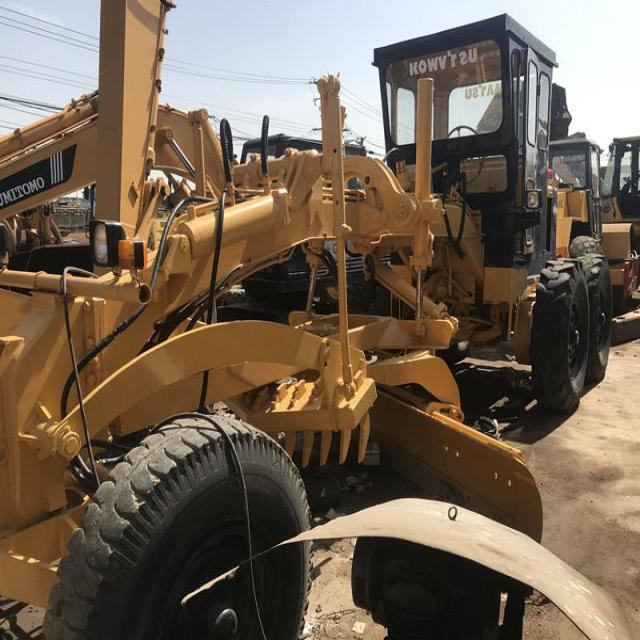Grader: (17, 14, 639, 639)
